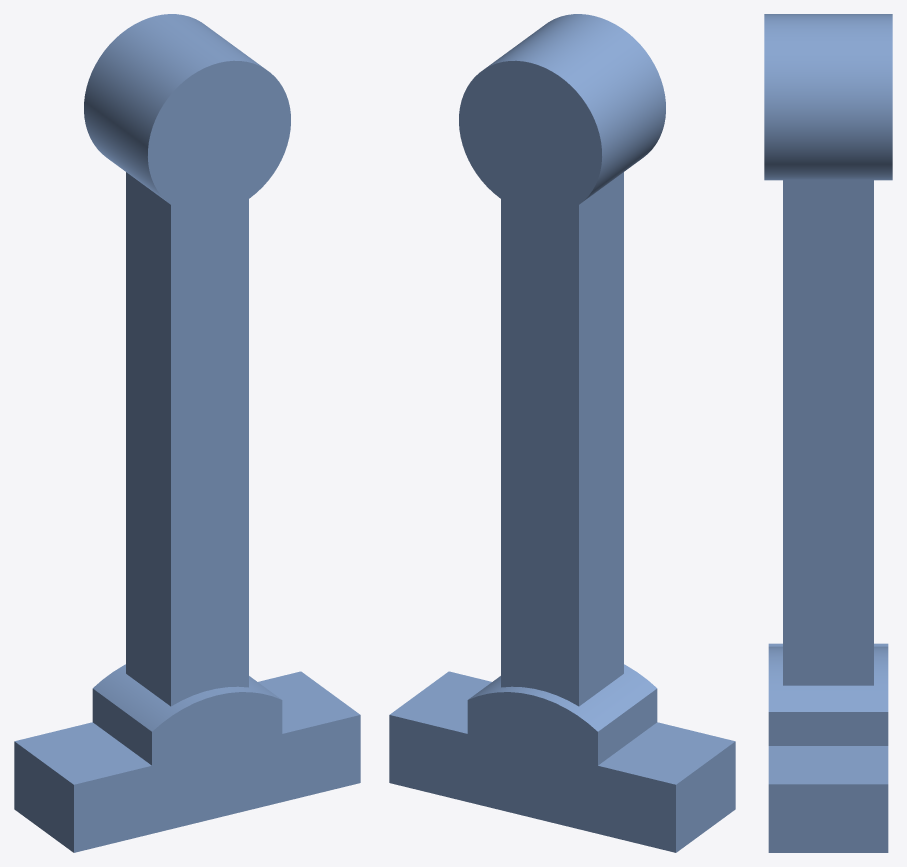
The model's file is step_24.glb.
3 views of the same model, side by side, from view 1: azimuth 30°, elevation 25°; view 2: azimuth 150°, elevation 25°; view 3: azimuth 270°, elevation 25° (orthographic).
Visible parts, largest first — view 1: part__connecting rod; view 2: part__connecting rod; view 3: part__connecting rod.
Part boxes in pixels (bbox=[...]): part__connecting rod: bbox=[14, 14, 360, 852]; part__connecting rod: bbox=[389, 14, 735, 852]; part__connecting rod: bbox=[764, 14, 892, 852].
Size of the model in its own units: 44 by 111 by 17.
